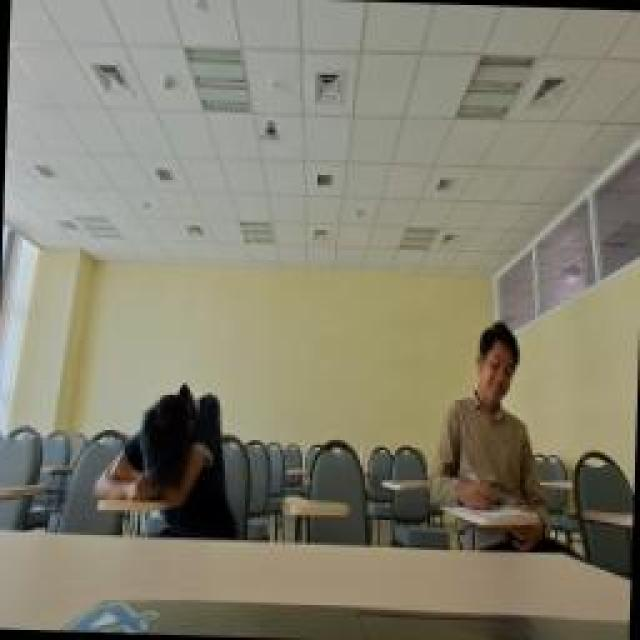sleep: (97, 380, 235, 502)
study: (427, 320, 555, 512)
